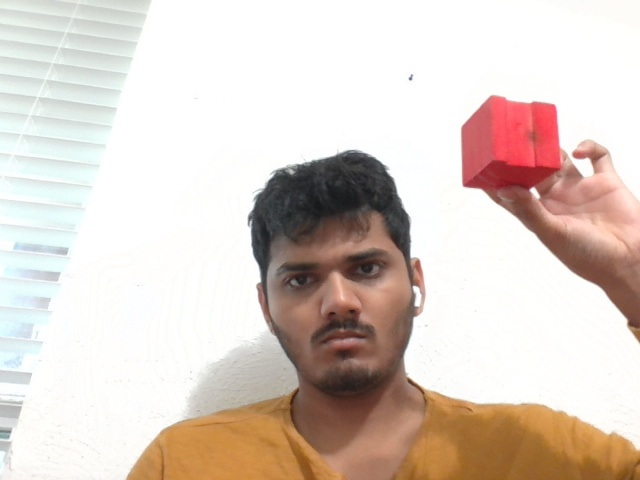RedBlock: (459, 95, 562, 190)
